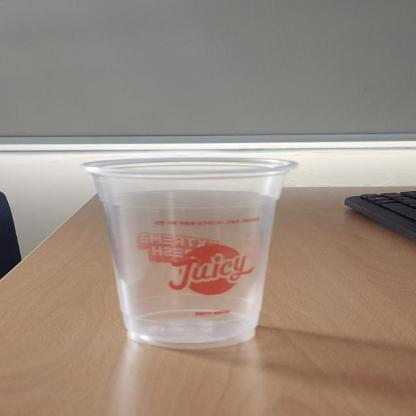Plastic Cup: (81, 155, 301, 349)
